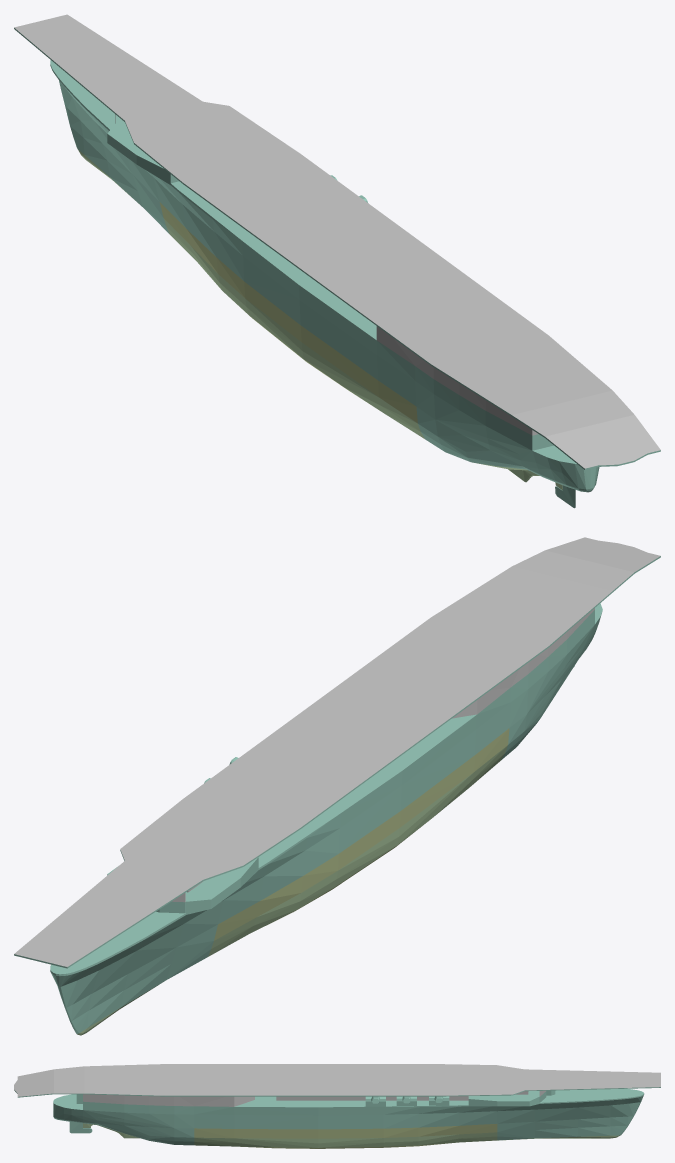
Rendered from PJSA104_armor.glb.
3 views of the same model, one above another, from view 1: azimuth 30°, elevation 25°; view 2: azimuth 150°, elevation 25°; view 3: azimuth 270°, elevation 25° (orthographic). The views are drawn at different scales.
Visible parts, largest first — view 1: armor; view 2: armor; view 3: armor.
Part boxes in pixels (left/top/right/bottom): armor: left=14, top=14, right=660, bottom=508; armor: left=14, top=537, right=660, bottom=1035; armor: left=14, top=1064, right=660, bottom=1148.
Size of the model in its own units: 24.79 by 19.98 by 200.
